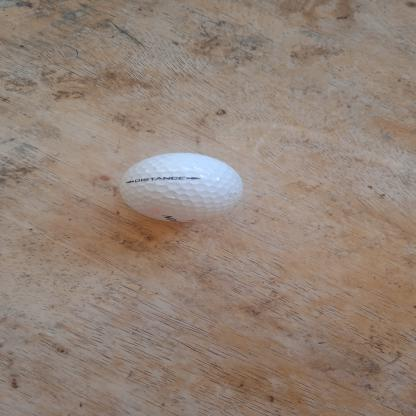Golf: (112, 150, 254, 228)
